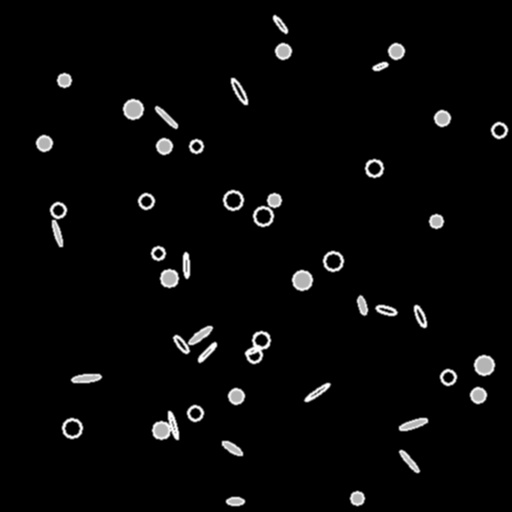pseudomonas: (154, 105, 178, 129), (229, 77, 249, 105), (398, 449, 420, 473), (304, 382, 330, 402), (188, 325, 212, 345), (197, 342, 217, 362), (221, 439, 243, 457), (399, 417, 427, 431), (167, 410, 179, 440), (172, 334, 190, 354), (51, 220, 63, 246), (413, 305, 427, 327), (71, 373, 101, 383), (272, 15, 288, 33), (375, 305, 397, 315), (244, 344, 262, 356), (357, 295, 367, 315), (372, 61, 388, 71), (183, 253, 189, 277), (227, 498, 243, 505)
synechocystis: (475, 356, 493, 374), (254, 207, 272, 225), (324, 252, 342, 270), (293, 271, 311, 289), (124, 100, 142, 118), (63, 419, 81, 437), (224, 191, 242, 209), (153, 422, 169, 438), (253, 332, 269, 348), (366, 160, 382, 176), (161, 270, 177, 286), (37, 136, 51, 150), (492, 123, 506, 137), (247, 348, 261, 362), (51, 203, 65, 217), (435, 111, 449, 125), (139, 194, 153, 208), (441, 370, 455, 384), (188, 406, 202, 420), (389, 44, 403, 58), (471, 388, 485, 402), (229, 389, 243, 403), (157, 139, 171, 153), (276, 44, 290, 58), (268, 194, 280, 206), (351, 492, 363, 504), (58, 74, 70, 86), (430, 215, 442, 227), (152, 247, 164, 259), (190, 140, 202, 152)
